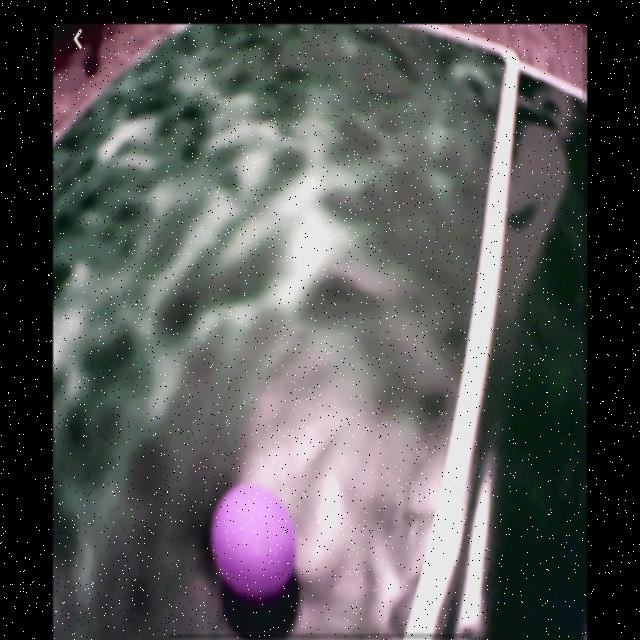ball: (210, 483, 295, 608)
